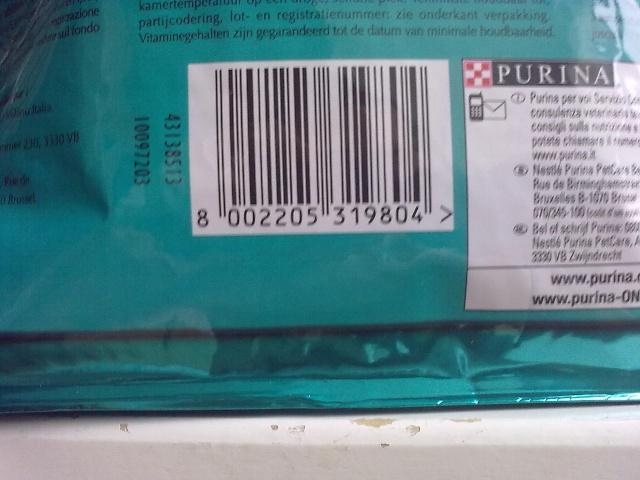Barcode: (188, 60, 456, 232)
